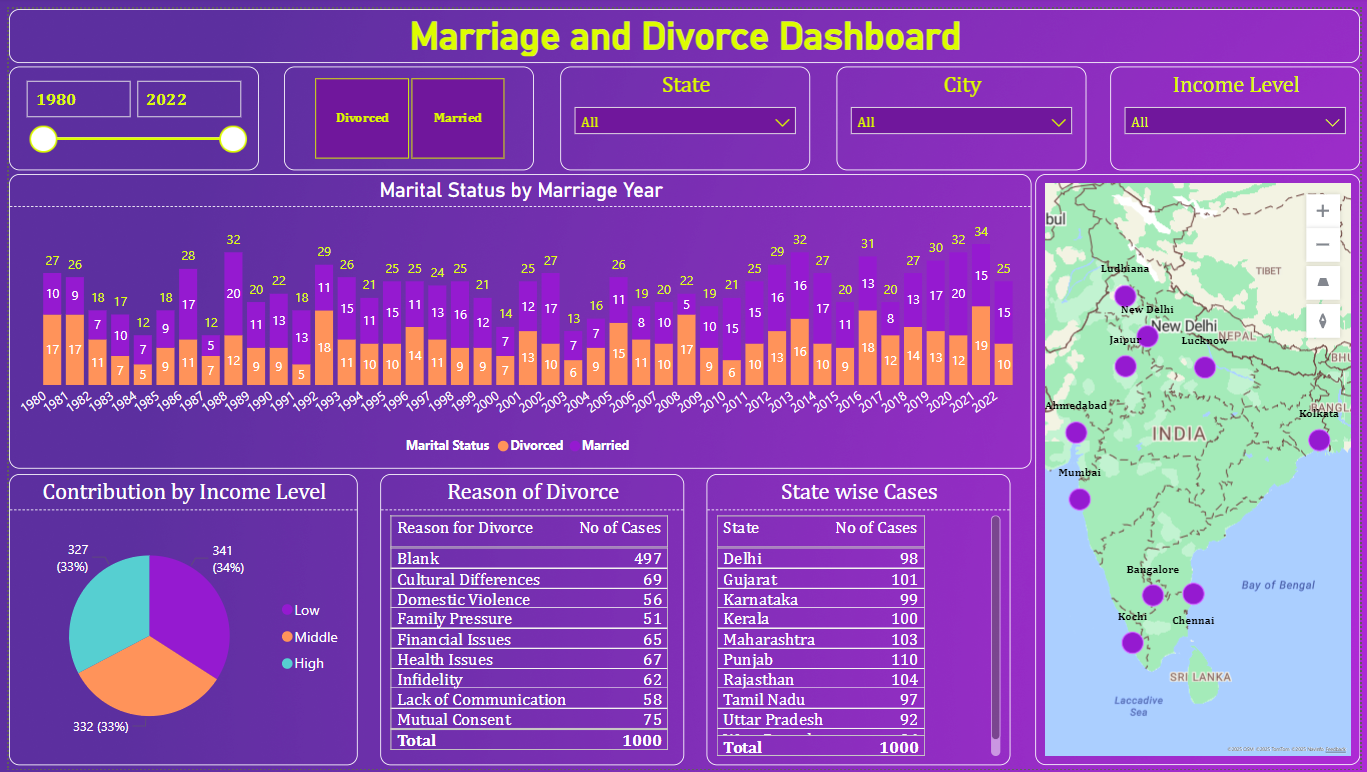

The dashboard page shown, as its layout file describes it:
{"tool":"powerbi","page":{"name":"Page 1","canvas":[1280,720],"ordinal":0},"visuals":[{"type":"columnChart","title":"Marital Status by Marriage Year","fields":{"Category":["Marriage Data.Marriage Year"],"Y":["CountNonNull(Marriage Data.Marital Status)"],"Series":["Marriage Data.Marital Status"]},"box":[0,156.3,968.8,279.5],"z":0},{"type":"textbox","title":"Marriage and Divorce Dashboard","box":[0,0,1280.2,50.9],"z":1000},{"type":"slicer","fields":{"Values":["Marriage Data.Marriage Year"]},"box":[0,54.5,236.9,98.3],"z":2000},{"type":"slicer","fields":{"Values":["Marriage Data.Marital Status"]},"box":[260.5,54.5,236.9,98.3],"z":3000},{"type":"slicer","title":"State","fields":{"Values":["Marriage Data.State"]},"box":[522.3,54.5,236.9,98.3],"z":4000},{"type":"slicer","title":"Income Level","fields":{"Values":["Marriage Data.Income Level"]},"box":[1043.4,54.5,236.9,98.3],"z":5000},{"type":"slicer","title":"City","fields":{"Values":["Marriage Data.City"]},"box":[784,54.5,236.9,98.3],"z":6000},{"type":"map","fields":{"Category":["Marriage Data.City"]},"box":[972.3,156.3,307.9,560.2],"z":7000},{"type":"pieChart","title":"Contribution by Income Level","fields":{"Category":["Marriage Data.Income Level"],"Y":["CountNonNull(Marriage Data.Country)"]},"box":[0,440.6,330.4,275.9],"z":8000},{"type":"tableEx","title":"Reason of Divorce","fields":{"Values":["Marriage Data.Reason for Divorce","CountNonNull(Marriage Data.Marriage Year)"]},"box":[351.7,440.6,287.8,275.9],"z":9000},{"type":"tableEx","title":"State wise Cases","fields":{"Values":["Marriage Data.State","CountNonNull(Marriage Data.Marriage Year)"]},"box":[660.8,440.6,287.8,275.9],"z":10000}]}

Visuals, with their boxes in screenshot pixels (x1, y1, x2, y2), scaled from the page's 1280x720 canvas onto the 1367x772 screenshot:
"Marital Status by Marriage Year" columnChart: [0,168,1035,467]
"Marriage and Divorce Dashboard" textbox: [0,0,1366,55]
slicer - Marriage Data.Marriage Year: [0,58,253,164]
slicer - Marriage Data.Marital Status: [278,58,531,164]
"State" slicer: [558,58,811,164]
"Income Level" slicer: [1114,58,1366,164]
"City" slicer: [837,58,1090,164]
map - Marriage Data.City: [1038,168,1366,768]
"Contribution by Income Level" pieChart: [0,472,353,768]
"Reason of Divorce" tableEx: [376,472,683,768]
"State wise Cases" tableEx: [706,472,1013,768]
